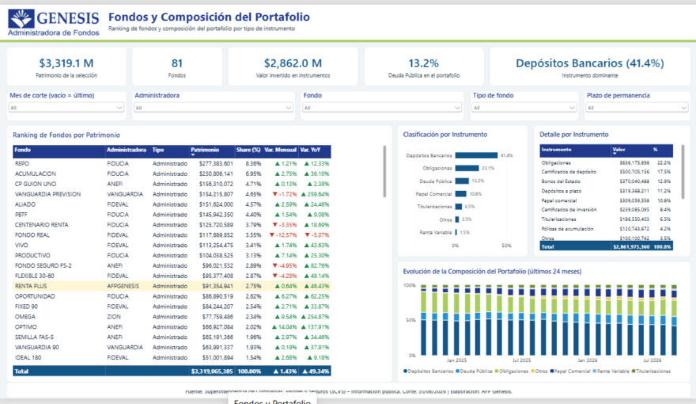

The page's visual inventory and layout, read from the dashboard file:
{"tool":"powerbi","page":{"name":"Fondos y Portafolio","canvas":[1920,1080],"ordinal":1},"visuals":[{"type":"textbox","box":[0,0,1920,96],"z":0},{"type":"image","box":[24,12,250,72],"z":1},{"type":"textbox","box":[300,10,1300,48],"z":2},{"type":"textbox","box":[300,54,1300,34],"z":3},{"type":"textbox","box":[0,96,1920,6],"z":4},{"type":"card","fields":{"Values":["Patrimonio.Patrimonio Seleccionado (M)"]},"box":[20,116,330,108],"z":10},{"type":"card","fields":{"Values":["Patrimonio.Nº Fondos"]},"box":[364,116,250,108],"z":11},{"type":"card","fields":{"Values":["Composicion.Valor Invertido (mil M)"]},"box":[628,116,360,108],"z":12},{"type":"card","fields":{"Values":["Composicion.% Deuda Pública"]},"box":[1002,116,330,108],"z":13},{"type":"card","fields":{"Values":["Composicion.Instrumento Principal"]},"box":[1346,116,554,108],"z":14},{"type":"slicer","fields":{"Values":["Meses.Mes"]},"box":[20,236,330,82],"z":20},{"type":"slicer","fields":{"Values":["Fondos.Administradora"]},"box":[364,236,450,82],"z":21},{"type":"slicer","fields":{"Values":["Fondos.Fondo"]},"box":[828,236,450,82],"z":22},{"type":"slicer","fields":{"Values":["Fondos.Tipo de fondo"]},"box":[1292,236,300,82],"z":23},{"type":"slicer","fields":{"Values":["Fondos.Plazo de permanencia"]},"box":[1606,236,294,82],"z":24},{"type":"tableEx","title":"Ranking de Fondos por Patrimonio","fields":{"Values":["Fondos.Fondo","Fondos.Administradora","Fondos.Tipo de fondo","Patrimonio.Patrimonio Total","Patrimonio.Share %","Patrimonio.Variación Mensual %","Patrimonio.Variación Anual %"]},"box":[20,330,1060,706],"z":30},{"type":"clusteredBarChart","title":"Clasificación por Instrumento","fields":{"Category":["Composicion.Grupo de instrumento"],"Y":["Composicion.% del Portafolio"]},"box":[1094,330,360,362],"z":40},{"type":"tableEx","title":"Detalle por Instrumento","fields":{"Values":["Composicion.Instrumento","Composicion.Valor Instrumento","Composicion.% del Portafolio"]},"box":[1468,330,432,362],"z":41},{"type":"hundredPercentStackedColumnChart","title":"Evolución de la Composición del Portafolio (últimos 24 meses)","fields":{"Category":["Meses.Fecha"],"Series":["Composicion.Grupo de instrumento"],"Y":["Composicion.Valor Instrumento (últimos 24 meses)"]},"box":[1094,704,806,332],"z":42},{"type":"card","fields":{"Values":["Patrimonio.Texto Corte"]},"box":[20,1036,1880,42],"z":90}]}

Visuals, with their boxes on the page's 1920x1080 design canvas (x1, y1, x2, y2). These are canvas units, not pixel positions in the 696x404 screenshot, which may show the page scaled, cropped or inside an application window:
textbox: <bbox>0, 0, 1920, 96</bbox>
image: <bbox>24, 12, 274, 84</bbox>
textbox: <bbox>300, 10, 1600, 58</bbox>
textbox: <bbox>300, 54, 1600, 88</bbox>
textbox: <bbox>0, 96, 1920, 102</bbox>
card - Patrimonio.Patrimonio Seleccionado (M): <bbox>20, 116, 350, 224</bbox>
card - Patrimonio.Nº Fondos: <bbox>364, 116, 614, 224</bbox>
card - Composicion.Valor Invertido (mil M): <bbox>628, 116, 988, 224</bbox>
card - Composicion.% Deuda Pública: <bbox>1002, 116, 1332, 224</bbox>
card - Composicion.Instrumento Principal: <bbox>1346, 116, 1900, 224</bbox>
slicer - Meses.Mes: <bbox>20, 236, 350, 318</bbox>
slicer - Fondos.Administradora: <bbox>364, 236, 814, 318</bbox>
slicer - Fondos.Fondo: <bbox>828, 236, 1278, 318</bbox>
slicer - Fondos.Tipo de fondo: <bbox>1292, 236, 1592, 318</bbox>
slicer - Fondos.Plazo de permanencia: <bbox>1606, 236, 1900, 318</bbox>
"Ranking de Fondos por Patrimonio" tableEx: <bbox>20, 330, 1080, 1036</bbox>
"Clasificación por Instrumento" clusteredBarChart: <bbox>1094, 330, 1454, 692</bbox>
"Detalle por Instrumento" tableEx: <bbox>1468, 330, 1900, 692</bbox>
"Evolución de la Composición del Portafolio (últimos 24 meses)" hundredPercentStackedColumnChart: <bbox>1094, 704, 1900, 1036</bbox>
card - Patrimonio.Texto Corte: <bbox>20, 1036, 1900, 1078</bbox>
